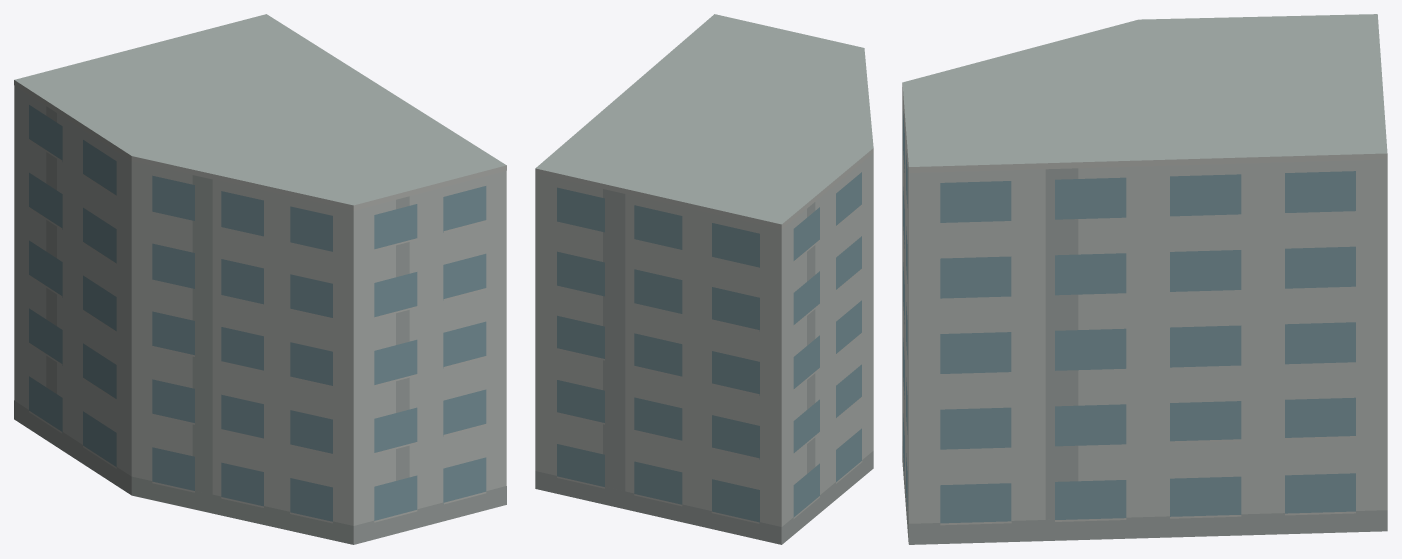
The model's file is residential-50599fab-fa9d-4eec-afa2-b5a012a40258.glb.
3 views of the same model, side by side, from view 1: azimuth 30°, elevation 25°; view 2: azimuth 150°, elevation 25°; view 3: azimuth 270°, elevation 25° (orthographic). The views are drawn at different scales.
Visible parts, largest first — view 1: residential-50599fab-fa9d-4eec-afa2-b5a012a40258.tmp; view 2: residential-50599fab-fa9d-4eec-afa2-b5a012a40258.tmp; view 3: residential-50599fab-fa9d-4eec-afa2-b5a012a40258.tmp.
Boxes of the visible parts, bbox=[...] form: residential-50599fab-fa9d-4eec-afa2-b5a012a40258.tmp: bbox=[14, 14, 506, 544]; residential-50599fab-fa9d-4eec-afa2-b5a012a40258.tmp: bbox=[535, 14, 873, 544]; residential-50599fab-fa9d-4eec-afa2-b5a012a40258.tmp: bbox=[902, 14, 1387, 544].
Bounding box in the file's own units: 13.26 × 15.25 × 17.76.
